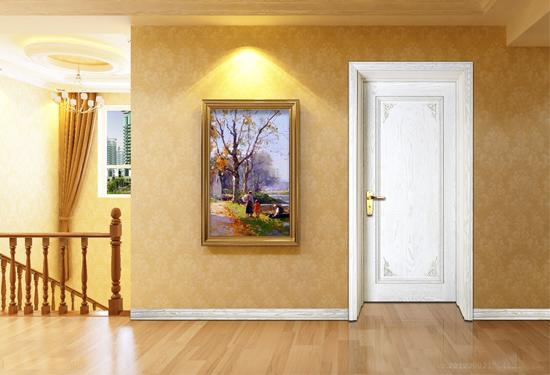door: (362, 80, 458, 305)
